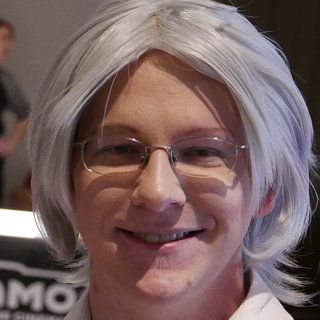eye: (179, 141, 225, 164), (100, 140, 144, 164)
